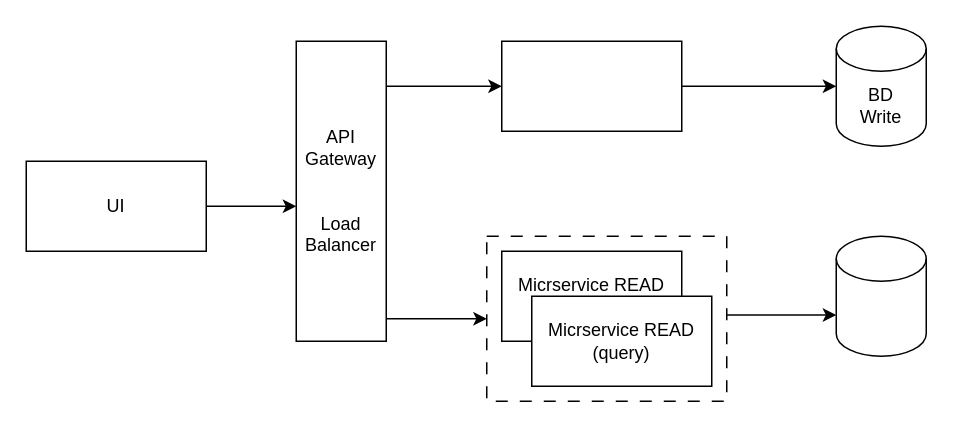
The diagram is 953 pixels wide and 428 high, and some of its shapes have lost their labels. The box of each missing label's shape, as (x1, y1, x2, y2) in pixels:
BD Read: (835, 235, 926, 356)
Micrservice WRITE (command): (500, 40, 682, 131)
